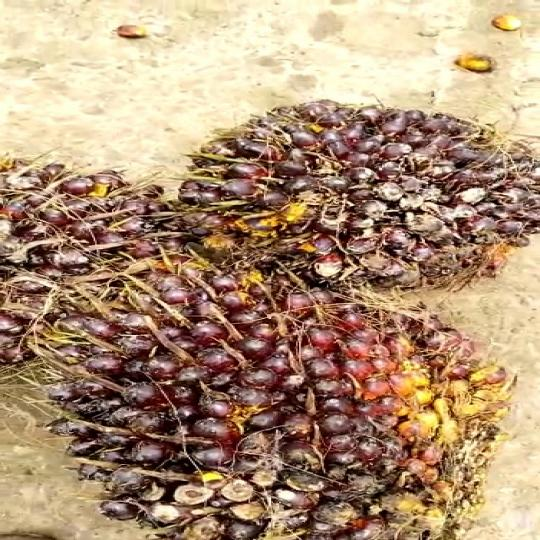kurang masak: (56, 277, 504, 540), (160, 89, 540, 315), (0, 154, 189, 387)
